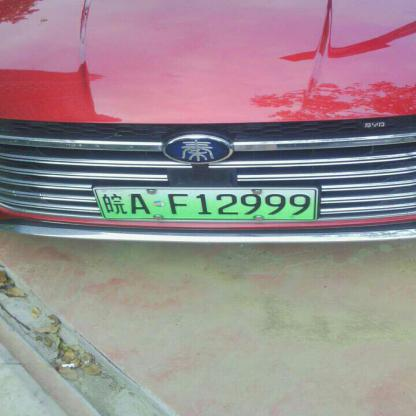lp: (96, 189, 315, 219)
